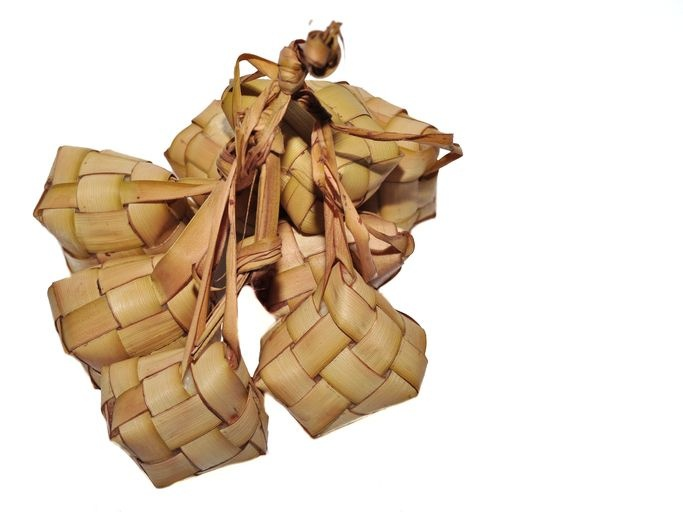ketupat: (256, 269, 430, 438), (99, 340, 269, 492)
